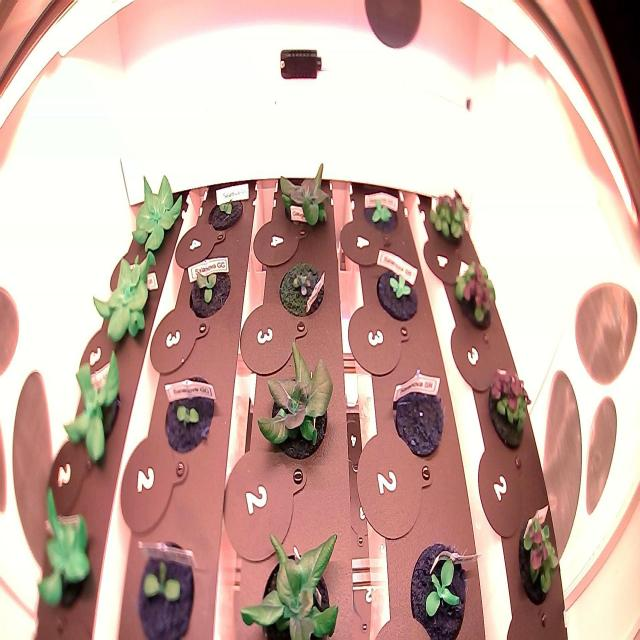germination: (131, 530, 201, 637), (158, 370, 218, 467), (202, 182, 248, 240)
pod: (388, 367, 448, 465)
young: (234, 502, 351, 640), (248, 332, 340, 469), (27, 480, 106, 623), (59, 346, 135, 476), (90, 246, 160, 352), (405, 534, 473, 640), (267, 146, 338, 243), (127, 168, 190, 264), (183, 252, 236, 332), (275, 253, 332, 327), (371, 259, 422, 330), (361, 183, 404, 244)
